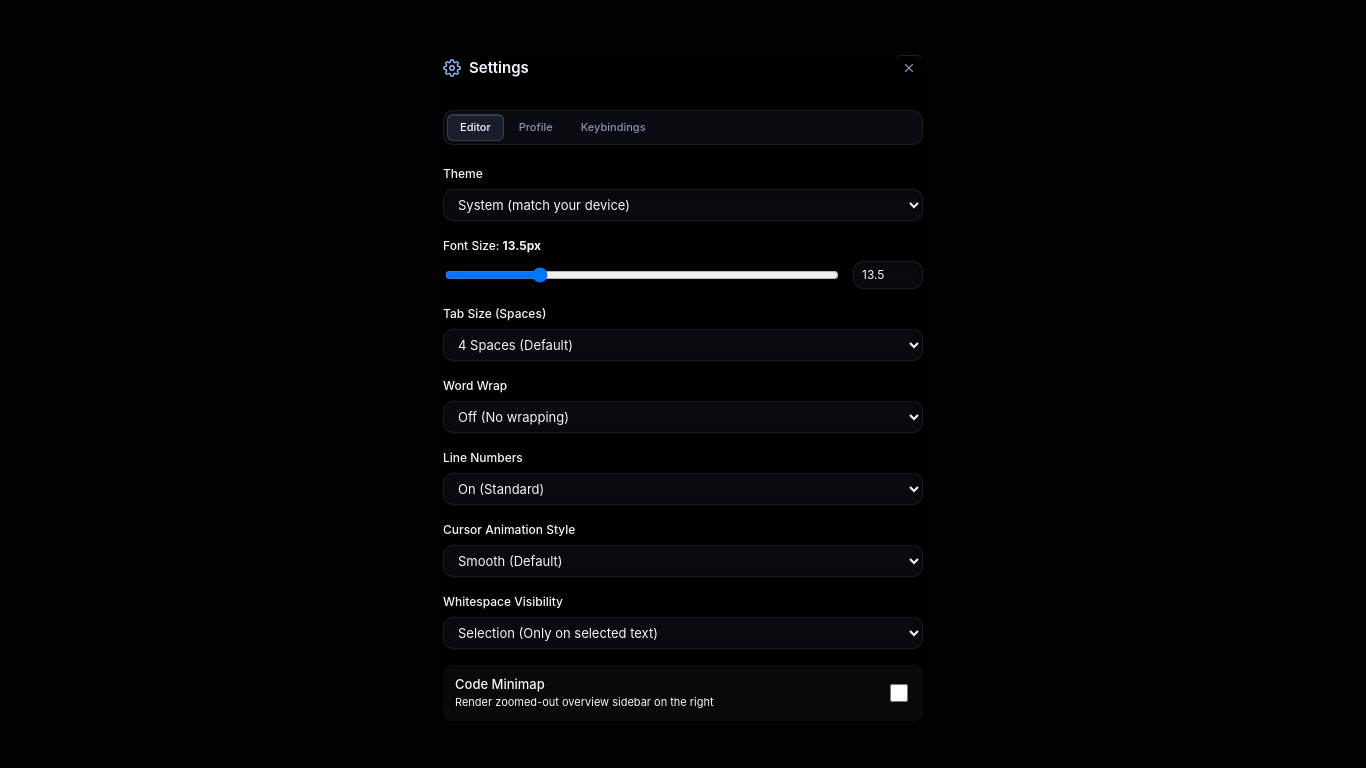
it: M62-4 — SettingsModal Profile tab › does not render profile values through any HTML sink
Click the tab "Profile" at (536, 128), box [506, 114, 566, 141]
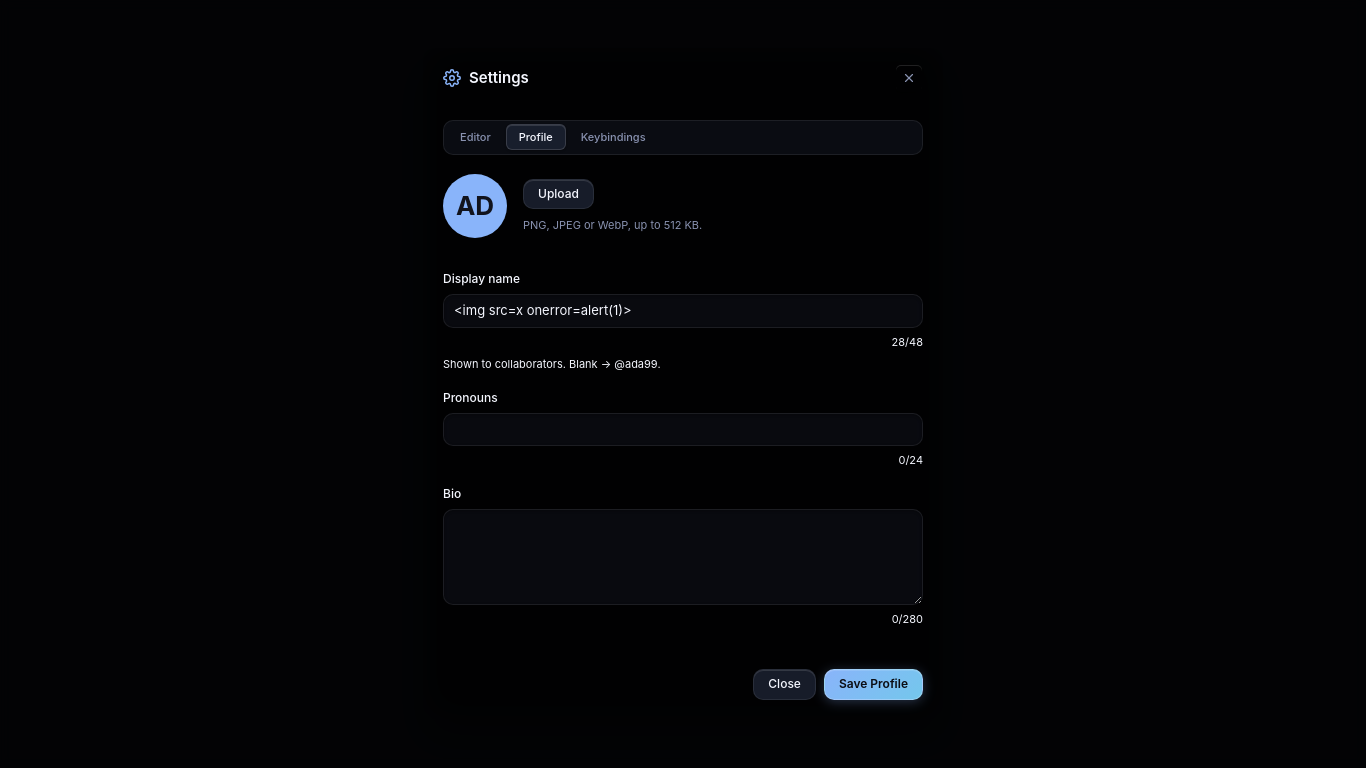
Expected: the field labelled "Display name" holds "<img src=x onerror=alert(1)>", [443, 294, 923, 328]
